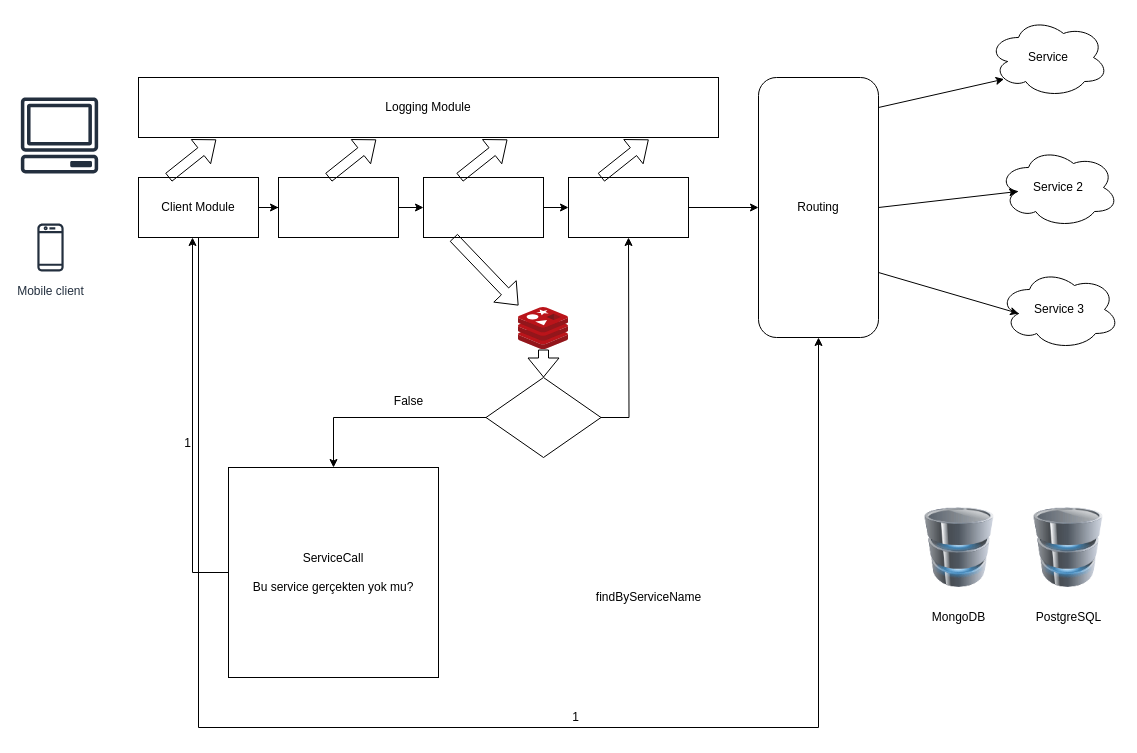
The diagram is 1137 pixels wide and 753 high, and some of its shapes have lost their labels. Each missing label, with the box of its shape:
Auth Module: (278, 176, 398, 238)
isExistsService: (485, 376, 601, 458)
Service Registry: (422, 176, 544, 238)
Validation Module: (568, 176, 688, 238)
